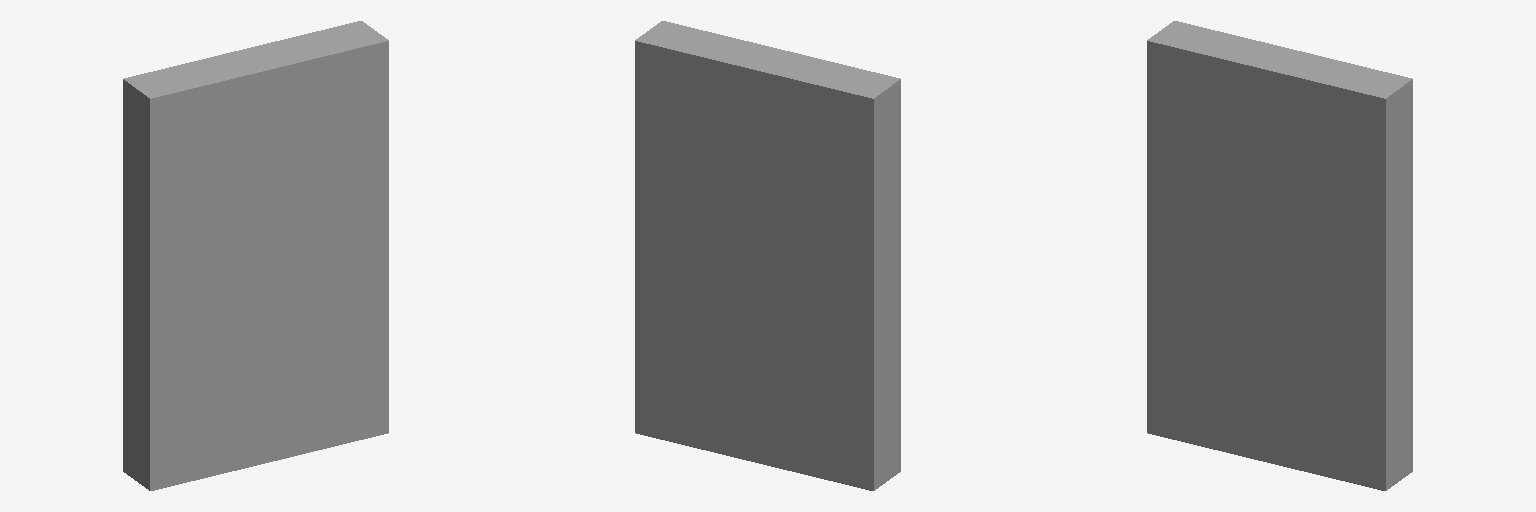
robot.urdf — table:
<robot name="table">
  <link name="table_base_link">
    <contact>
      <lateral_friction value="0.5"/>
      <rolling_friction value="0.0"/>
      <contact_cfm value="0.0"/>
      <contact_erp value="1.0"/>
    </contact>
    <inertial>
      <origin rpy="0 0 0" xyz="0 0 0"/>
      <mass value="0"/>
      <inertia ixx="0" ixy="0" ixz="0" iyy="0" iyz="0" izz="0"/>
    </inertial>
    <visual>
      <origin rpy="0 0 0" xyz="0 0 0"/>
      <geometry>
        <mesh filename="cube_table.obj"/>
      </geometry>
      <material name="tray_material">
        <color rgba="0.7 0.7 0.7 1"/>
      </material>
    </visual>
    <collision>
      <origin rpy="0 0 0" xyz="0 0 0"/>
      <geometry>
        <mesh filename="cube_table.obj"/>
      </geometry>
    </collision>
  </link>
</robot>

--- What the picture shows (computed from the rendered views, not written in the file) ---
The picture shows the robot from 3 angles, left to right: view 1: azimuth 30°, elevation 25°; view 2: azimuth 150°, elevation 25°; view 3: azimuth 330°, elevation 25°; orthographic projection.
Model table with 1 links and 0 joints (none), rooted at table_base_link, posed every joint at zero.
Visible links, largest first — view 1: table_base_link; view 2: table_base_link; view 3: table_base_link.
Link boxes in pixels (box(x1,y1,x2,y2)): table_base_link: box(123, 21, 388, 490); table_base_link: box(635, 21, 900, 490); table_base_link: box(1147, 21, 1412, 490).
Size in the robot's own frame: 0.5 by 0.1 by 0.7853 metres.
Meshes: 1 distinct files referenced, 1 mesh visuals loaded (1 OBJ).